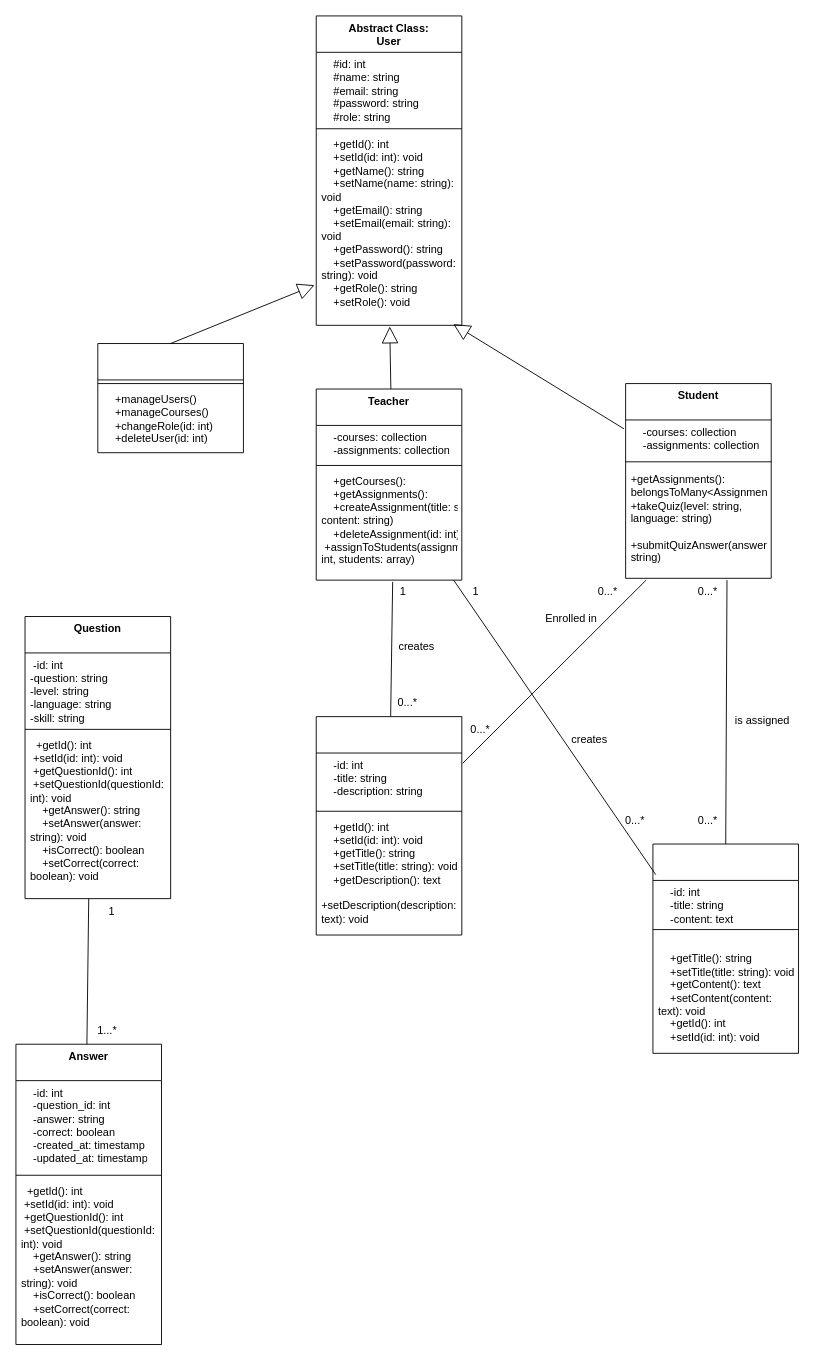
The diagram is 814 pixels wide and 1363 high, and some of its shapes have lost their labels. The shapes that lost their labels are listed below. From the top down, each one's box as (x1, y1, x2, y2) in pixels, then its label:
(97, 343, 243, 453): Admin
(315, 716, 462, 935): Course
(652, 843, 799, 1053): Assignment
